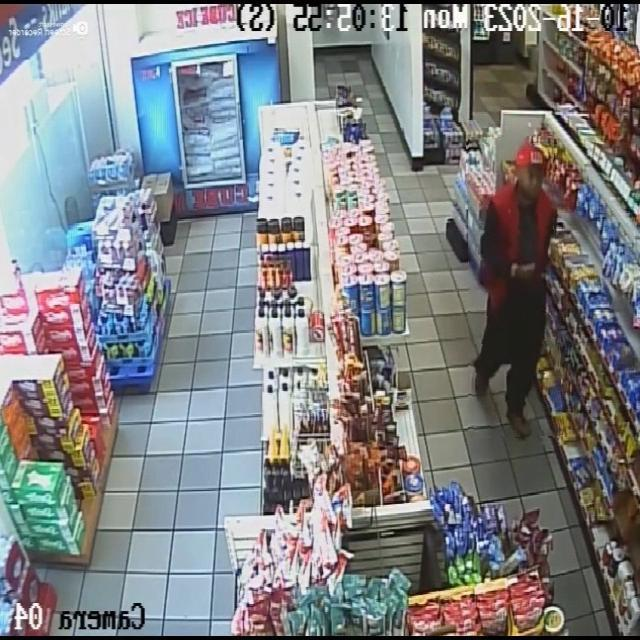Normal: (468, 136, 561, 438)
